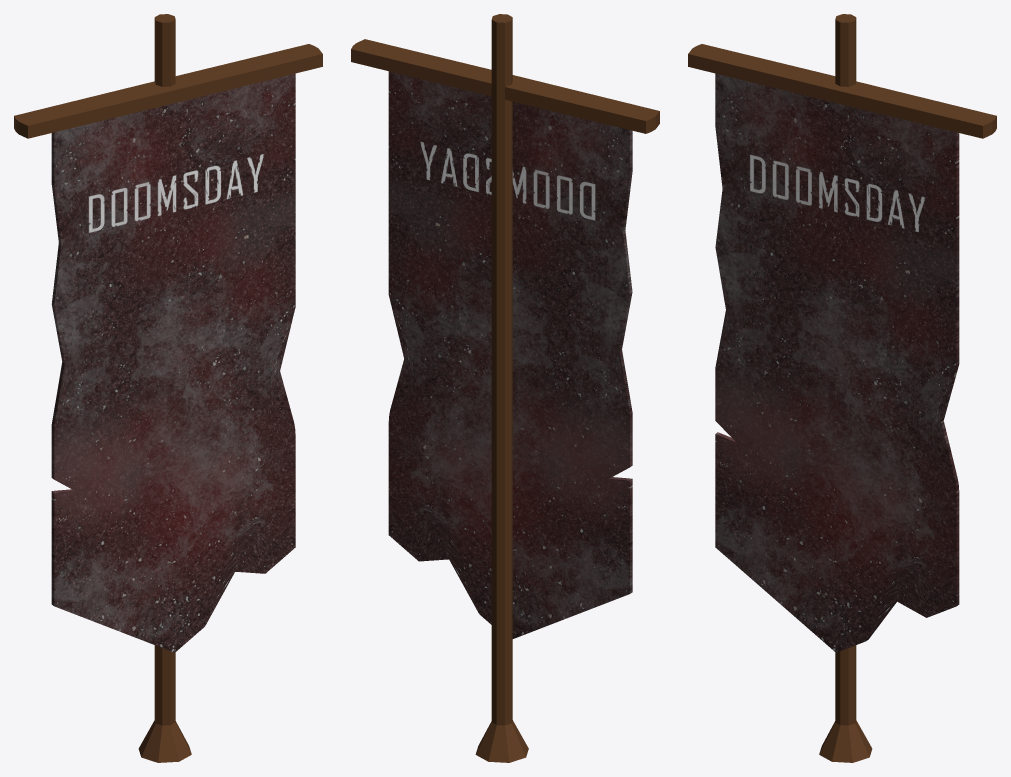
The model's file is Tiang Bendera.fbx.
3 renders of one model, left to right at view 1: azimuth 30°, elevation 25°; view 2: azimuth 150°, elevation 25°; view 3: azimuth 330°, elevation 25°, orthographic.
Parts seen in each view (by area): view 1: Plane, Cylinder; view 2: Plane, Cylinder; view 3: Plane, Cylinder.
Part boxes in pixels (<box>): Plane: <box>51,73,295,652</box>; Cylinder: <box>14,14,322,762</box>; Plane: <box>388,71,632,638</box>; Cylinder: <box>351,14,659,762</box>; Plane: <box>715,73,959,652</box>; Cylinder: <box>688,14,996,762</box>.
Bounding box in the file's own units: 473 × 1105 × 75.41.
